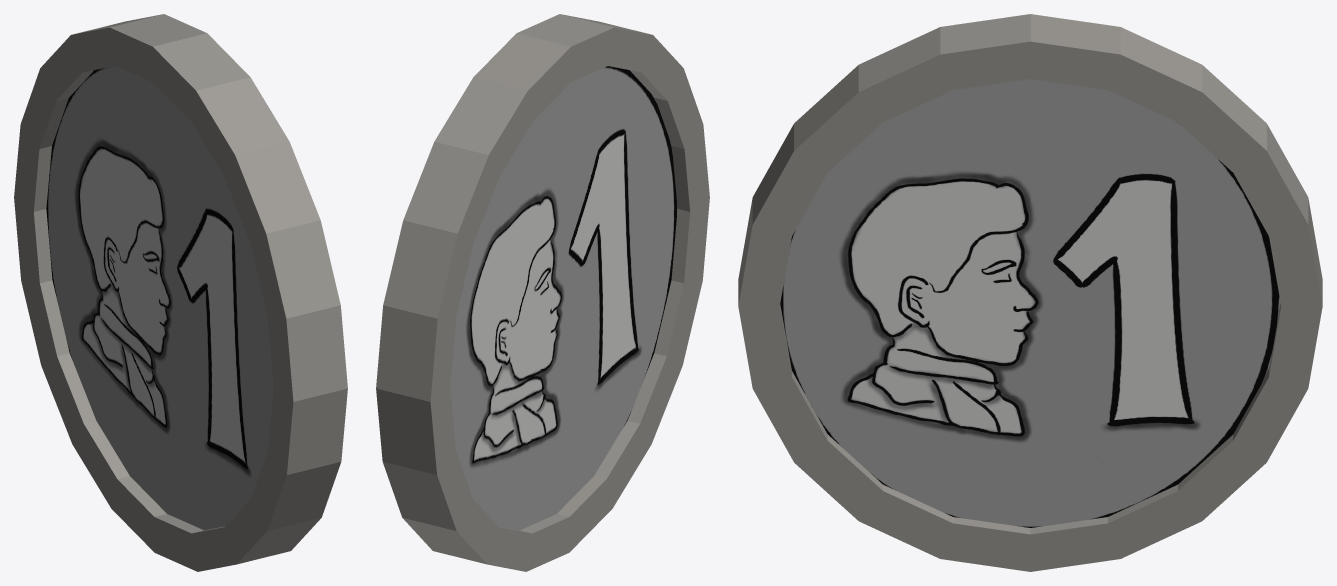
Rendered from COIN.fbx.
3 renders of one model, left to right at view 1: azimuth 30°, elevation 25°; view 2: azimuth 150°, elevation 25°; view 3: azimuth 270°, elevation 25°, orthographic. The views are drawn at different scales.
Parts seen in each view (by area): view 1: Cylinder; view 2: Cylinder; view 3: Cylinder.
Boxes of the visible parts, box(x1,y1,x2,y2) form: Cylinder: box(14, 14, 347, 571); Cylinder: box(376, 14, 709, 571); Cylinder: box(738, 14, 1322, 571).
Size of the model in its own units: 23.25 by 200 by 200.
